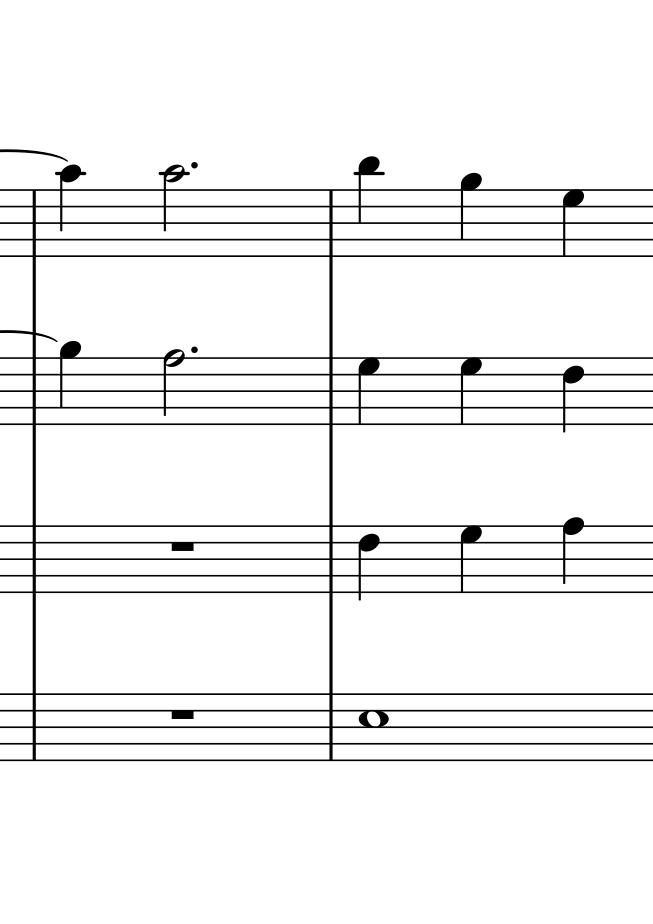1_5: (359, 691, 391, 763)
2_10: (157, 164, 188, 260)
2_8: (162, 349, 189, 426)
4_10: (55, 164, 85, 261)
4_11: (354, 155, 382, 257)
4_6: (560, 356, 592, 434), (355, 521, 385, 601)
4_7: (457, 524, 489, 595), (457, 356, 484, 429), (561, 188, 588, 257), (357, 356, 381, 428)
4_8: (558, 515, 587, 595)
4_9: (457, 171, 486, 260), (59, 341, 85, 430)
Rests1: (166, 706, 197, 723), (168, 538, 198, 555)
Single_barline: (316, 191, 344, 255), (318, 693, 344, 761), (317, 527, 343, 593), (319, 358, 345, 423), (24, 357, 49, 423), (23, 694, 47, 760), (22, 190, 45, 256), (24, 526, 45, 592)
dot: (186, 345, 204, 361), (186, 160, 201, 177), (185, 343, 201, 357), (188, 159, 199, 173)
